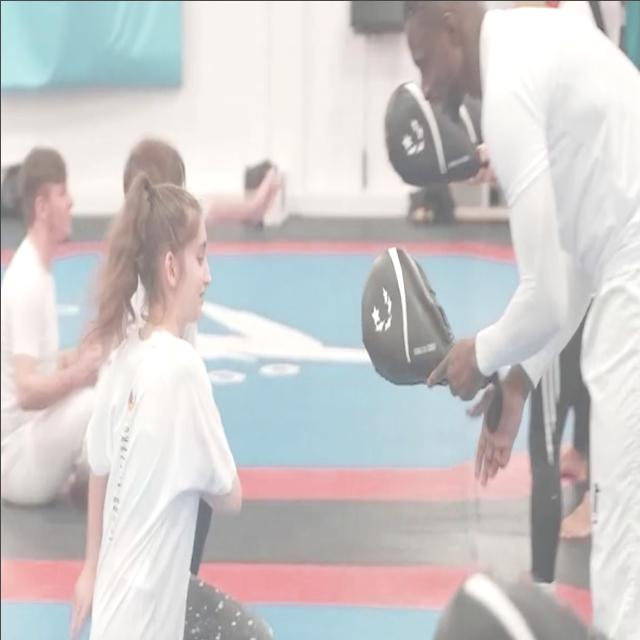paddle: (358, 244, 454, 387)
